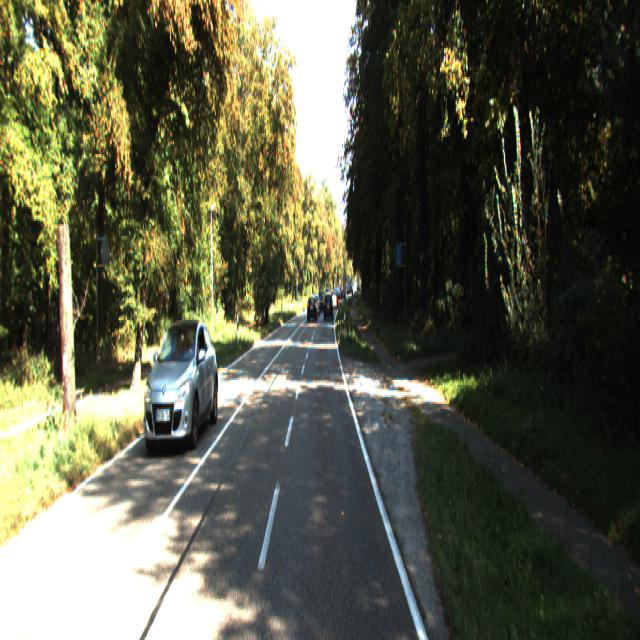Car: (140, 314, 220, 453)
